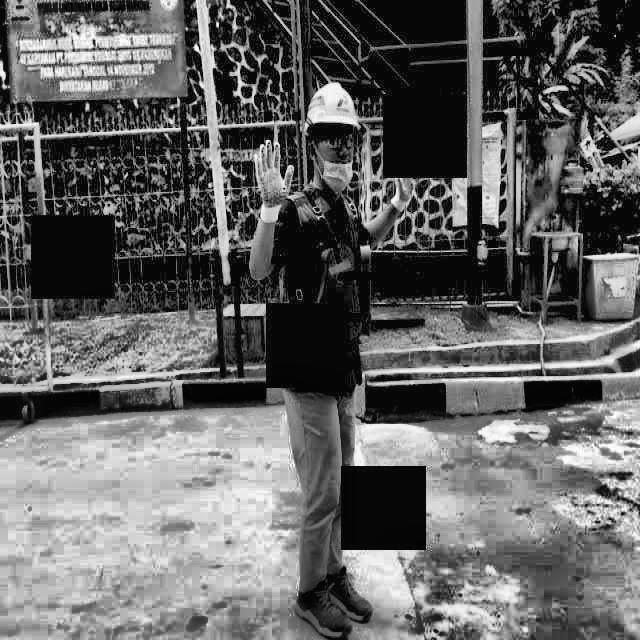safety_helmet: (303, 82, 360, 129)
safety_jacket: (278, 181, 375, 390)
